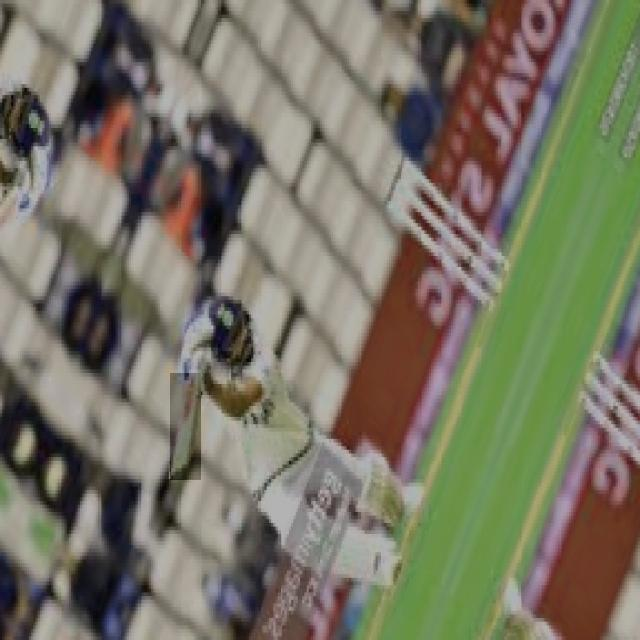bat: (170, 373, 199, 481)
